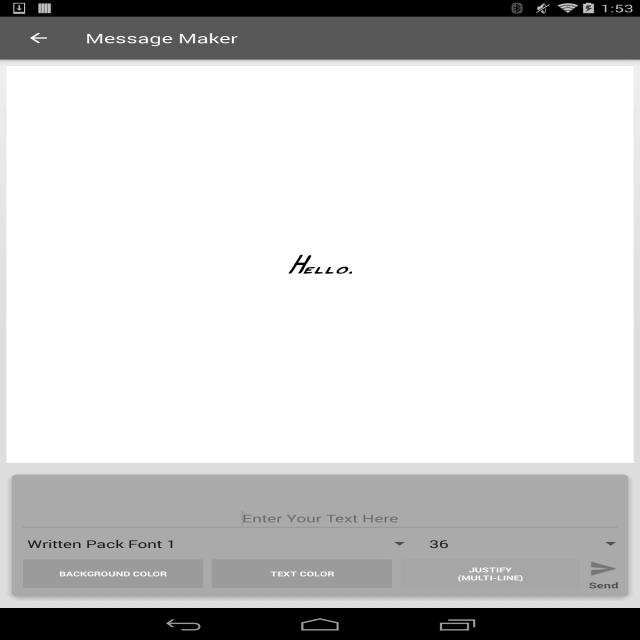Button: (19, 555, 208, 592), (396, 555, 585, 592), (208, 555, 396, 592)
EditText: (19, 479, 621, 533)
ImageButton: (9, 17, 68, 59)
ImageView: (587, 558, 621, 580)
Spinner: (19, 536, 410, 552), (421, 536, 621, 552)
TextView: (19, 537, 393, 551), (85, 29, 238, 47), (421, 537, 604, 551), (287, 248, 352, 277), (588, 580, 618, 590)
